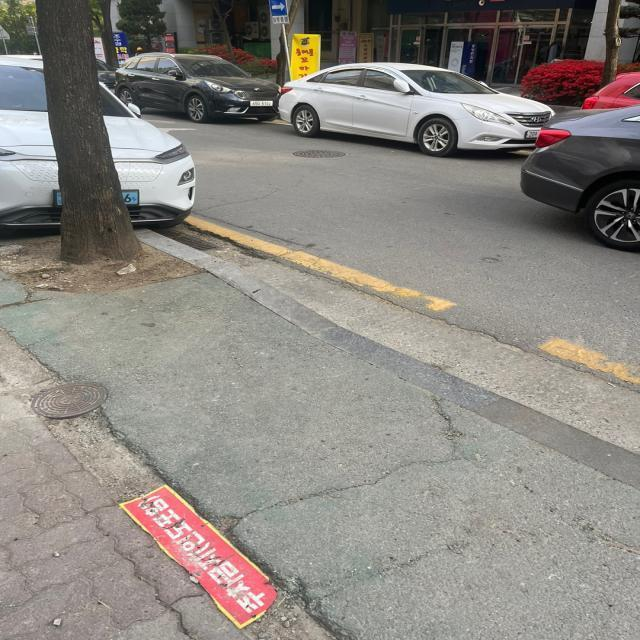manhole: (30, 372, 114, 434)
